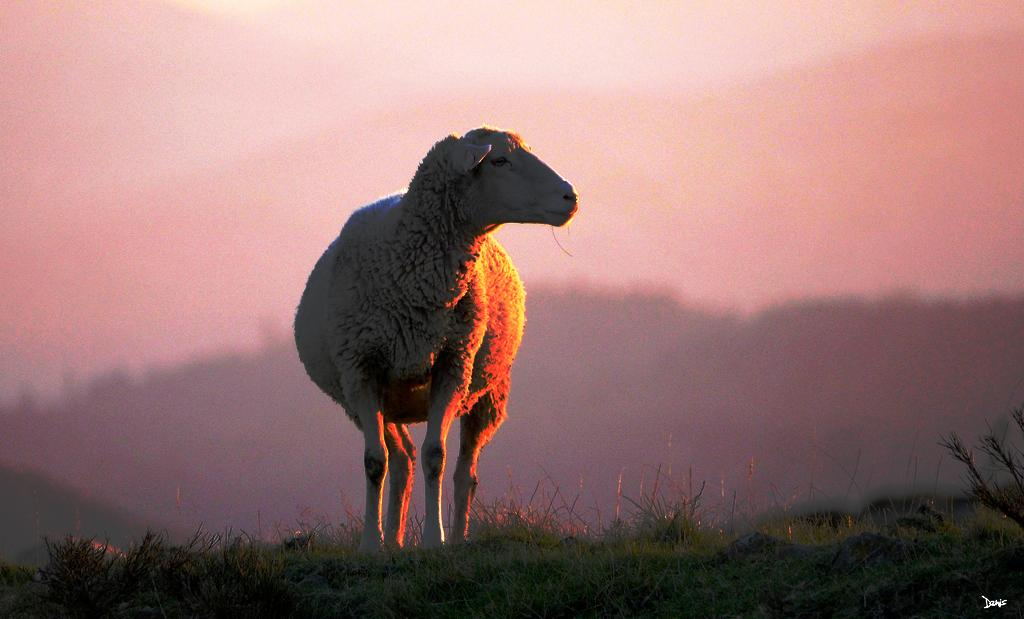Sheep: (294, 119, 580, 552)
